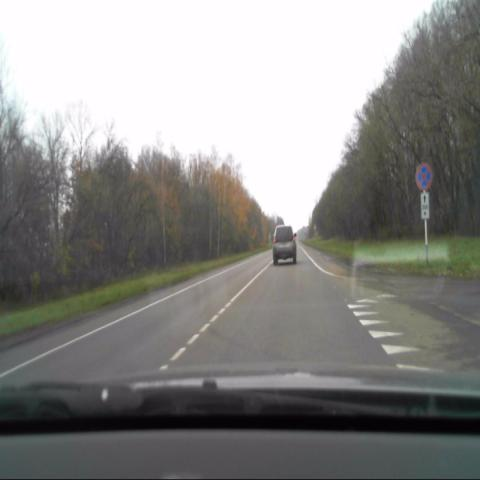8_2_2: (420, 192, 430, 218)
